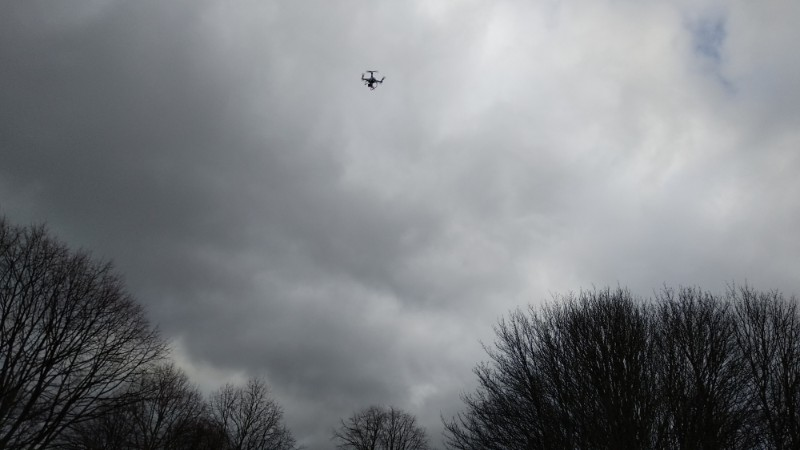drone: (360, 70, 387, 91)
